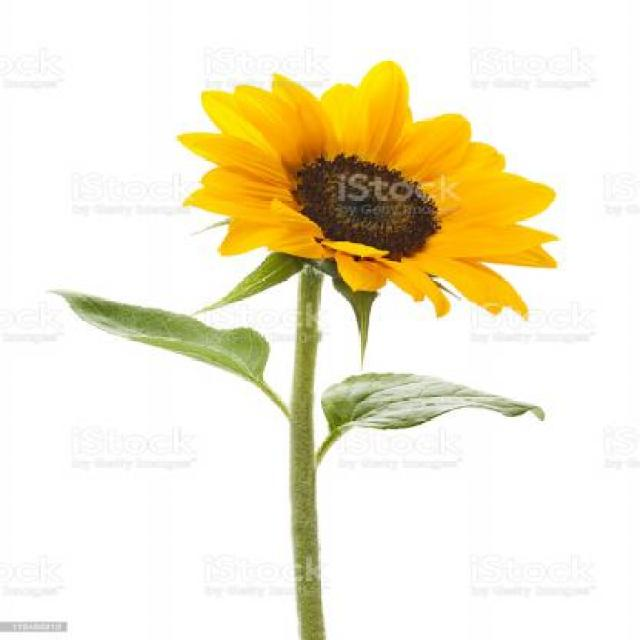sunflower: (169, 59, 571, 326)
